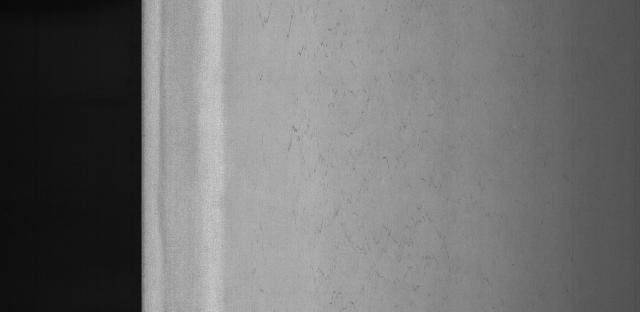silk_spot: (261, 0, 446, 267)
